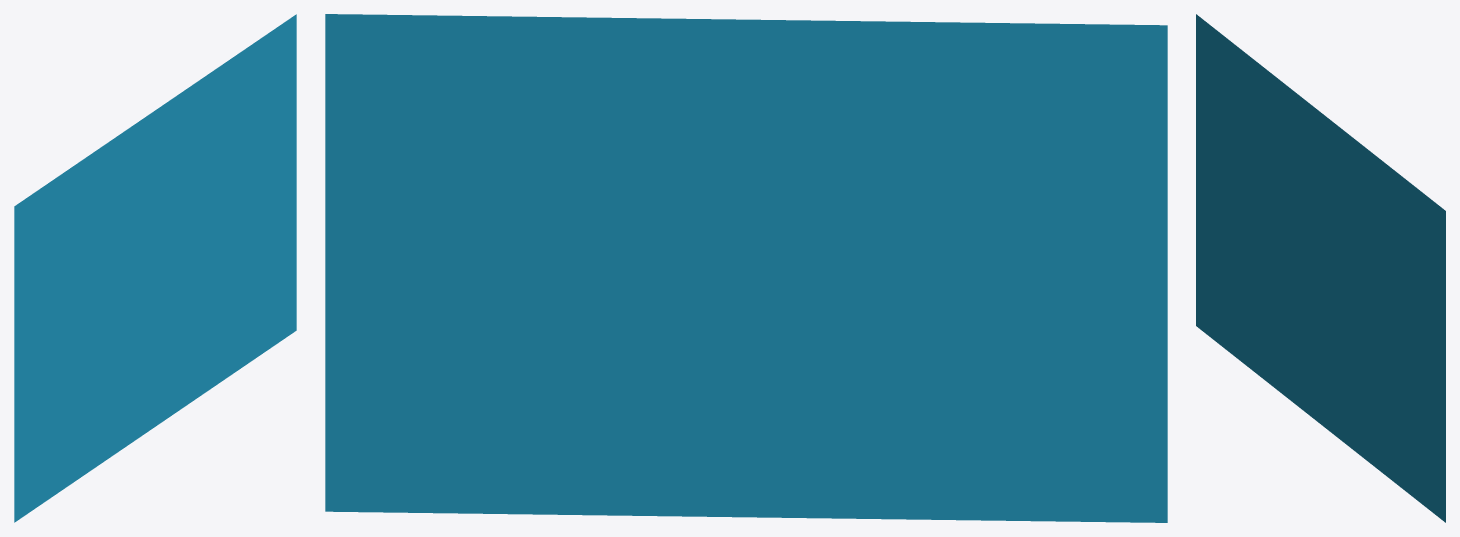
The picture shows the model from 3 angles, left to right: view 1: azimuth 30°, elevation 25°; view 2: azimuth 150°, elevation 25°; view 3: azimuth 270°, elevation 25°; orthographic projection. The views are drawn at different scales.
Parts seen in each view (by area): view 1: Visual_Cube; view 2: Visual_Cube; view 3: Visual_Cube.
Part boxes in pixels (x1=…): Visual_Cube: x1=14, y1=14, x2=296, y2=522; Visual_Cube: x1=325, y1=14, x2=1167, y2=522; Visual_Cube: x1=1196, y1=14, x2=1445, y2=522.
Bounding box in the file's own units: 357 × 264 × 191.
